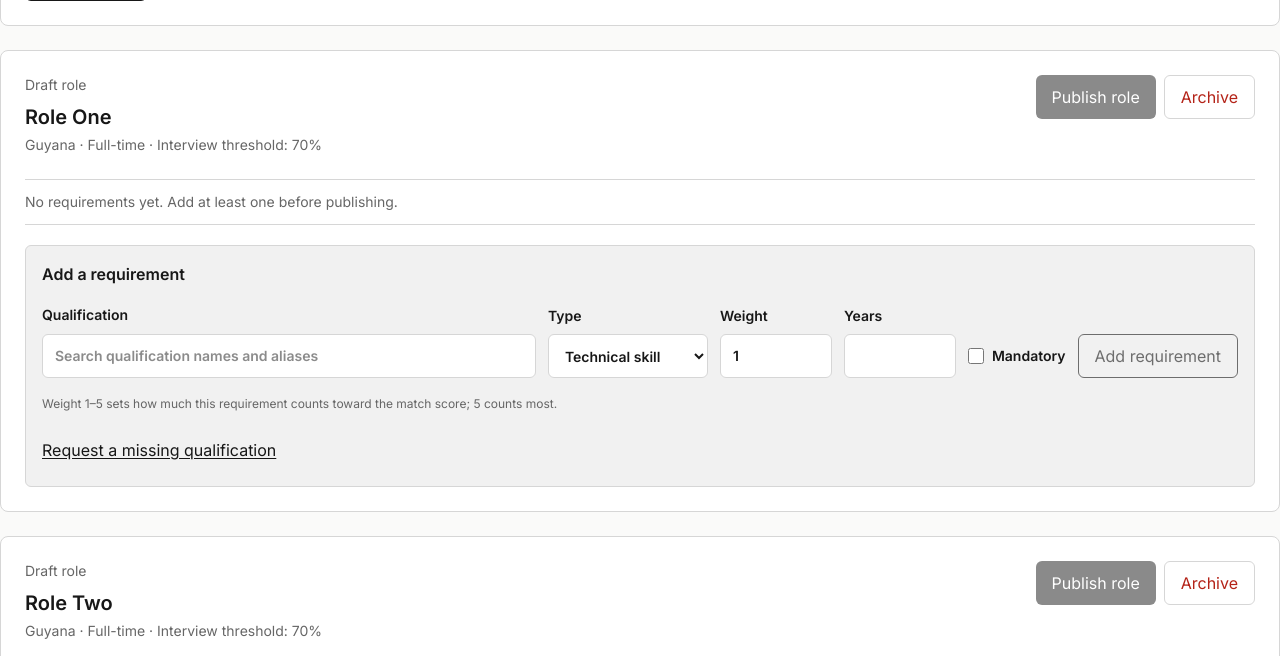
Test case: RoleEditor qualification forms › keeps requirement settings and missing qualification forms independent per role
(page scrolled)
Replace the text in the number field labelled "Weight" with "4": {"x": 776, "y": 356} 720,334 -> 832,378
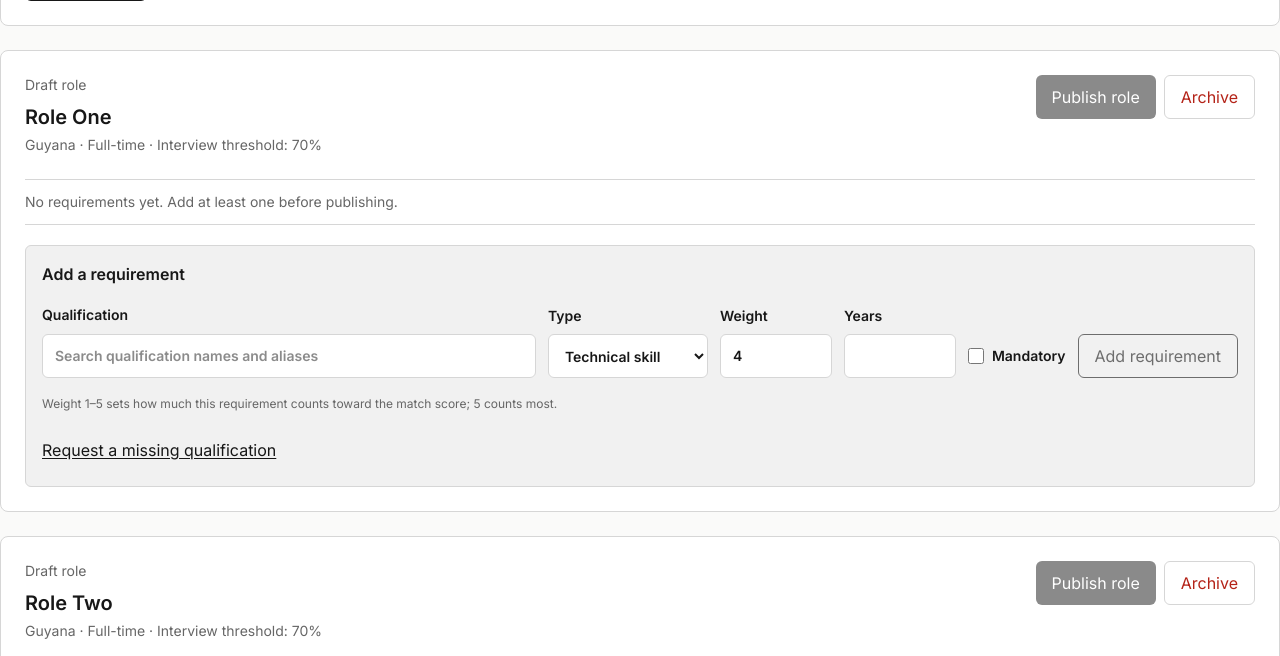
Click the button "Request a missing qualification": {"x": 159, "y": 450} 42,430 -> 276,470
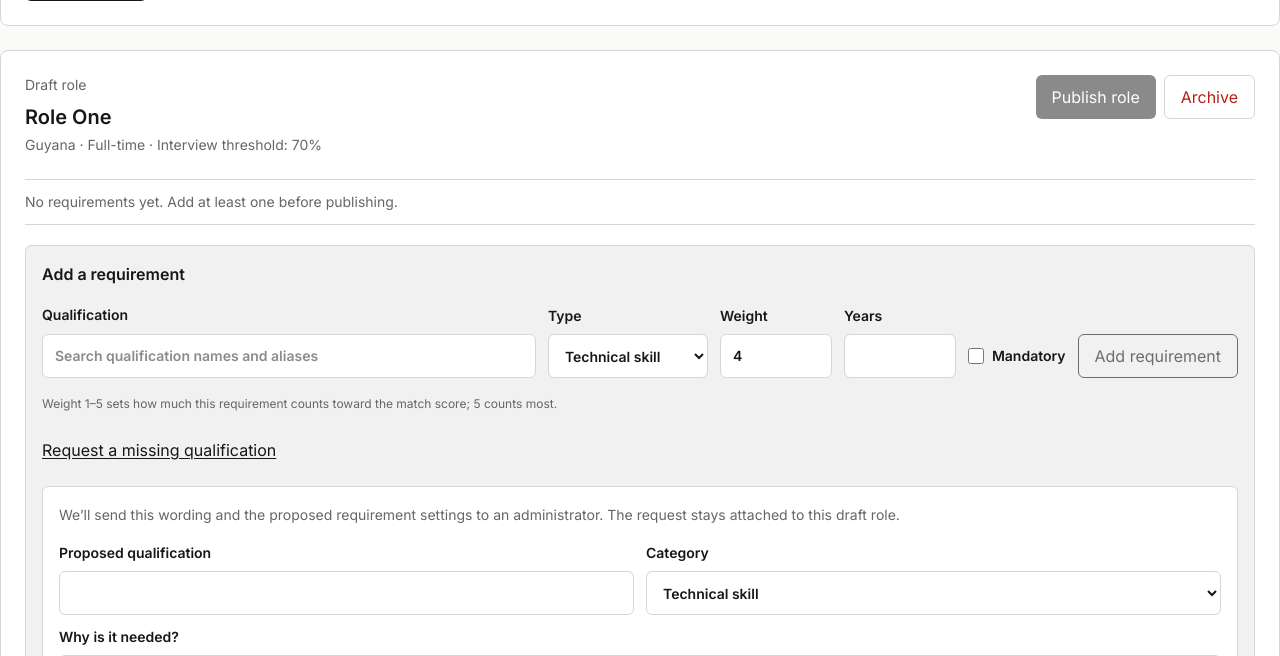
Expected: the field labelled "Proposed qualification" is shown, 59,571 -> 634,615
